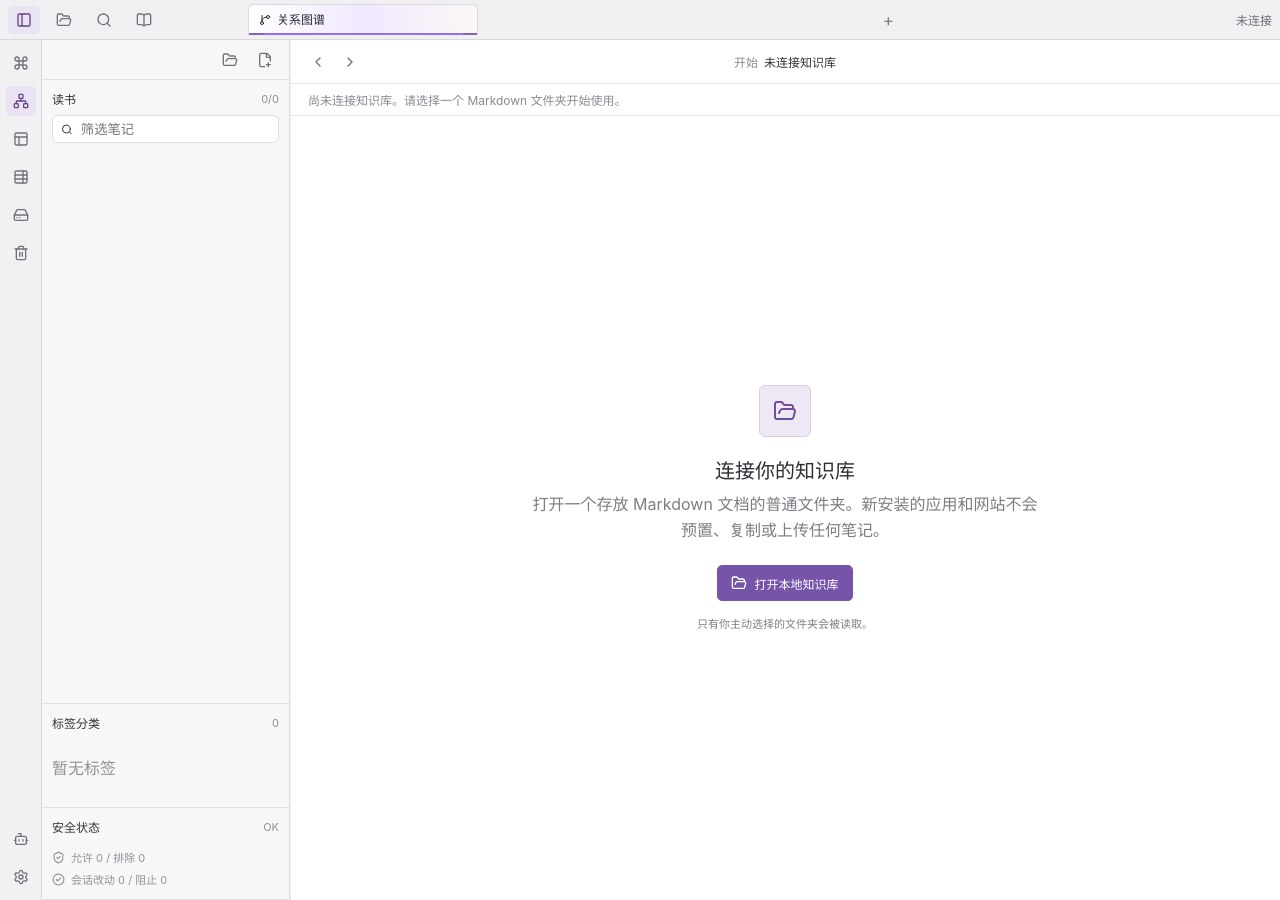
Test: KnowledgeWorkspace navigation › opens the canvas directly on first launch and dismisses the storage panel
The image size is (1280, 900).
expect the button named "知识画布" is shown: met, box left=6, top=124, right=36, bottom=154
Step 1. Click the button named "存储空间" → (64, 20), box left=48, top=6, right=80, bottom=34
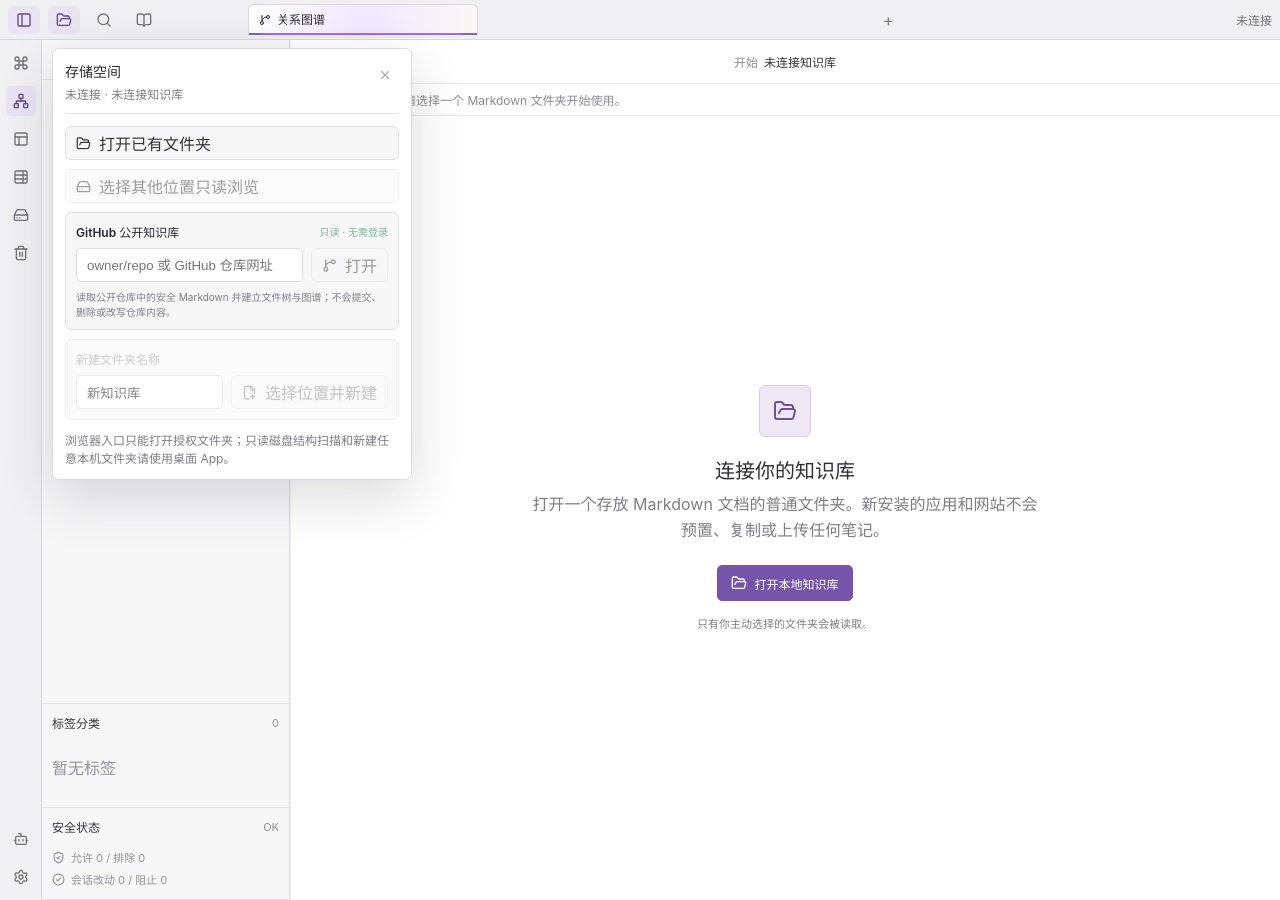
expect the element named "本地存储空间" is shown: met, box left=52, top=48, right=412, bottom=480
Step 2. Click the button named "知识画布" → (20, 139), box left=6, top=124, right=36, bottom=154
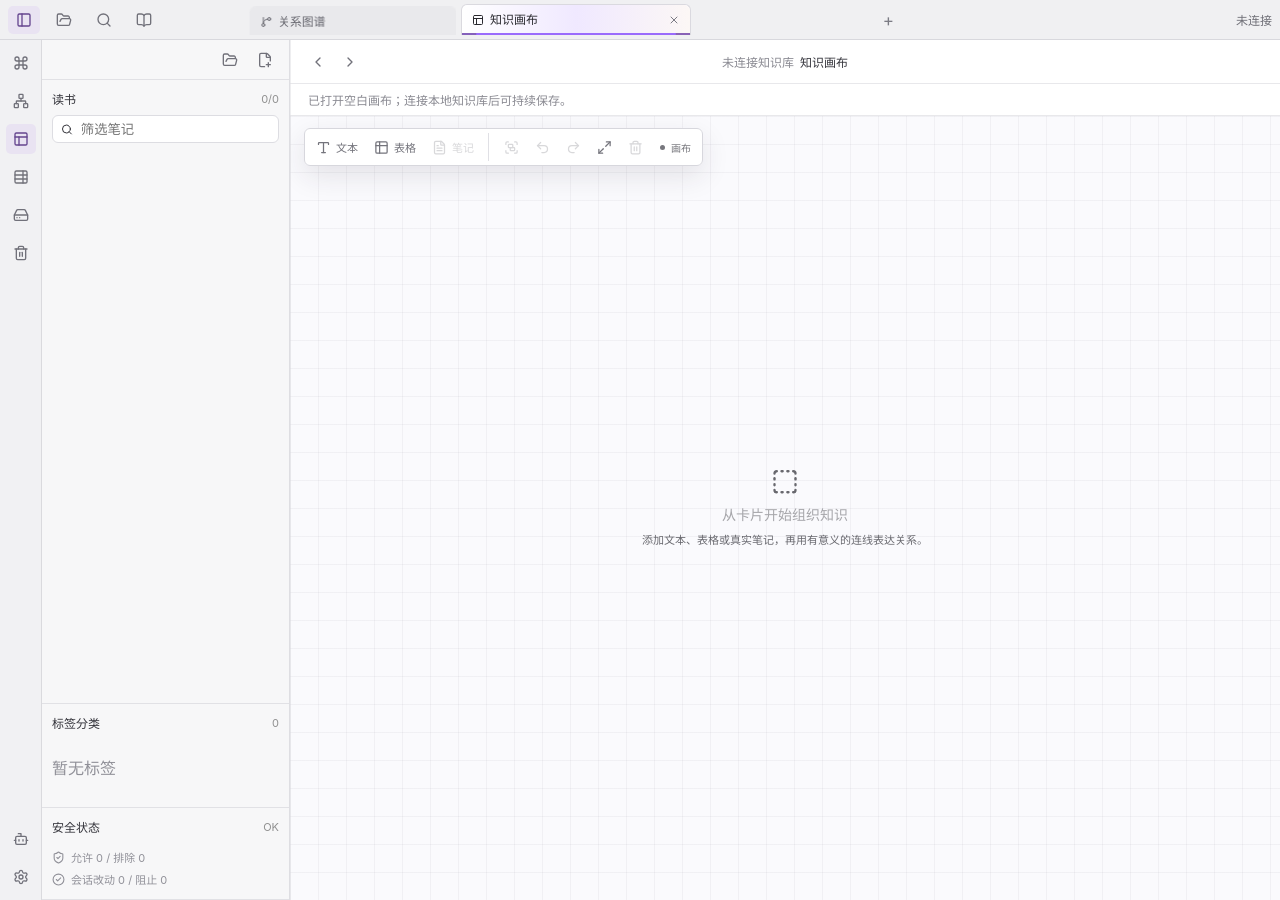
expect the field labelled "本地存储空间" is gone: met
expect the element named "知识画布" is shown: met
expect the heading "连接你的知识库" is gone: met
